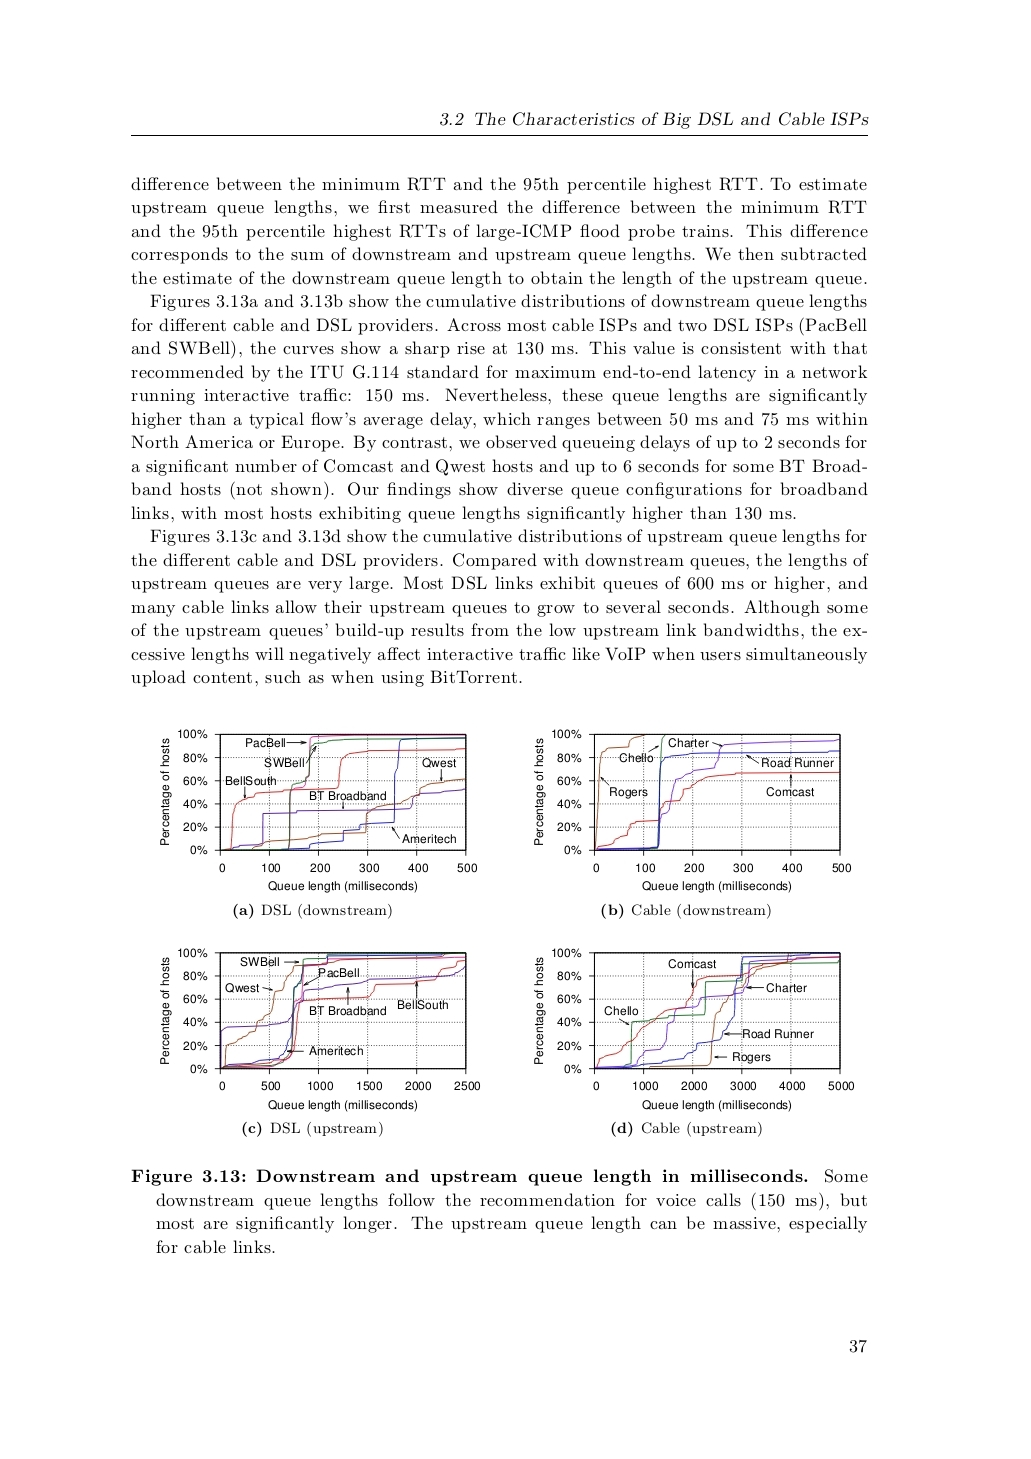figure: (160, 948, 479, 1111), (534, 948, 852, 1111), (160, 729, 476, 892), (534, 729, 850, 892)
